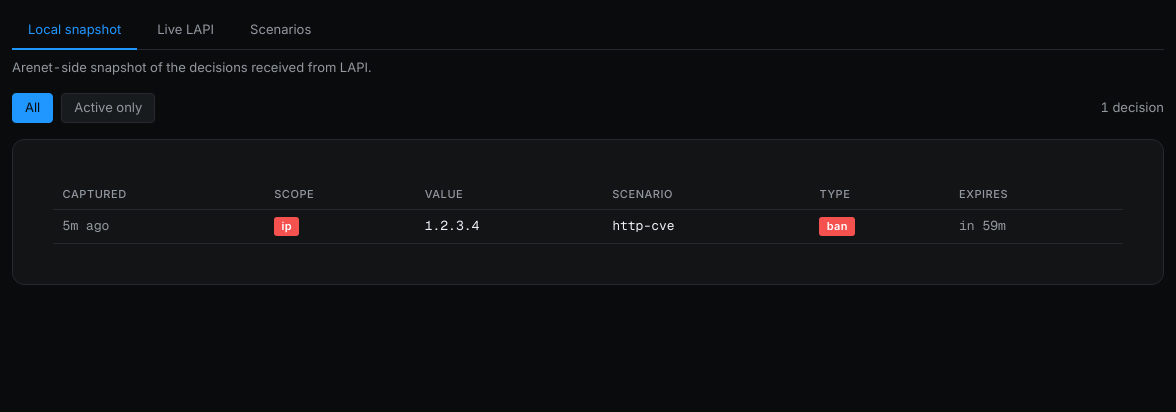
Test case: CrowdSec decisions panel — Live LAPI tab › renders live decisions in the table after the proxy fetch resolves
Click the tab with test id "tab-live". click: (186, 31)
box: [141,12,230,50]
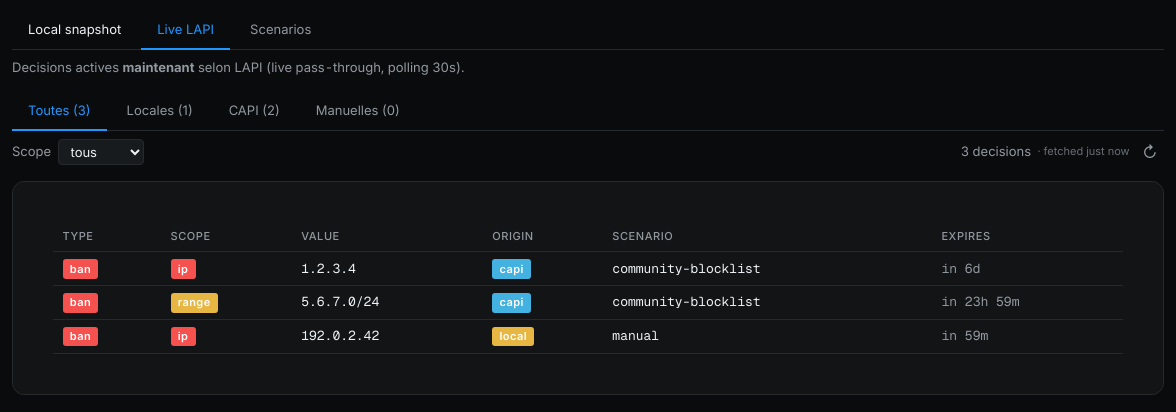
Expected: the text "5.6.7.0/24" is shown, [292,286,483,319]
Expected: the text "192.0.2.42" is shown, [292,319,483,353]
